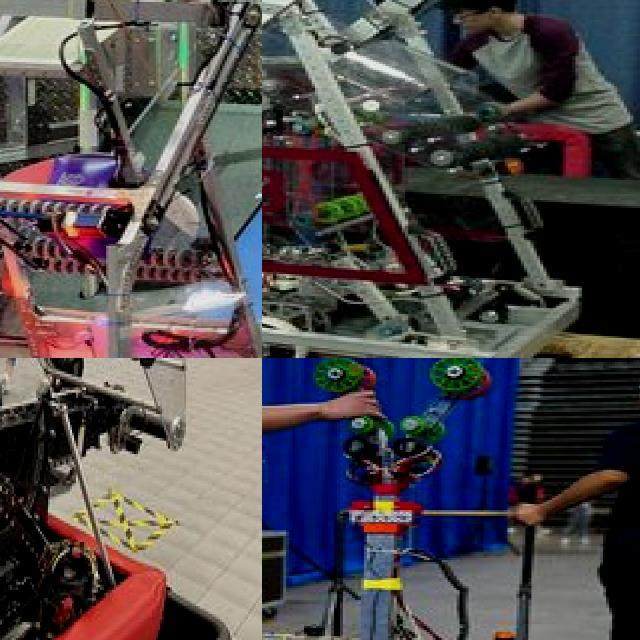FRC-Robots: (262, 0, 638, 358), (0, 0, 262, 358), (262, 358, 567, 640), (0, 358, 174, 640)
